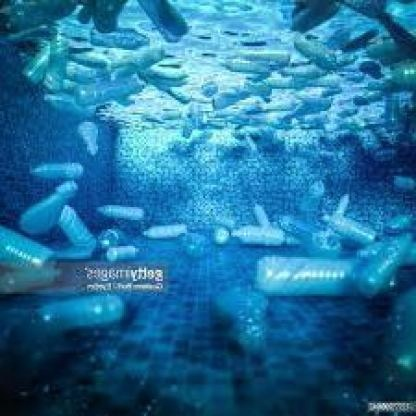pbottle: (212, 278, 274, 361), (250, 255, 362, 298), (357, 235, 414, 299), (26, 296, 131, 329), (26, 31, 81, 94), (385, 283, 412, 401), (52, 200, 94, 260), (254, 204, 304, 252), (2, 218, 50, 268), (24, 181, 67, 233), (76, 76, 153, 105), (326, 214, 384, 248), (179, 230, 233, 264), (22, 157, 91, 183), (90, 24, 152, 52), (292, 35, 333, 74), (98, 229, 141, 263), (94, 194, 146, 222), (307, 229, 351, 259), (235, 224, 288, 248), (70, 120, 107, 154), (2, 268, 63, 287), (224, 55, 277, 76), (257, 76, 311, 96), (43, 87, 96, 105), (242, 46, 296, 63), (386, 57, 416, 87), (148, 226, 194, 242), (207, 222, 239, 244), (212, 89, 250, 107), (386, 174, 416, 196)
